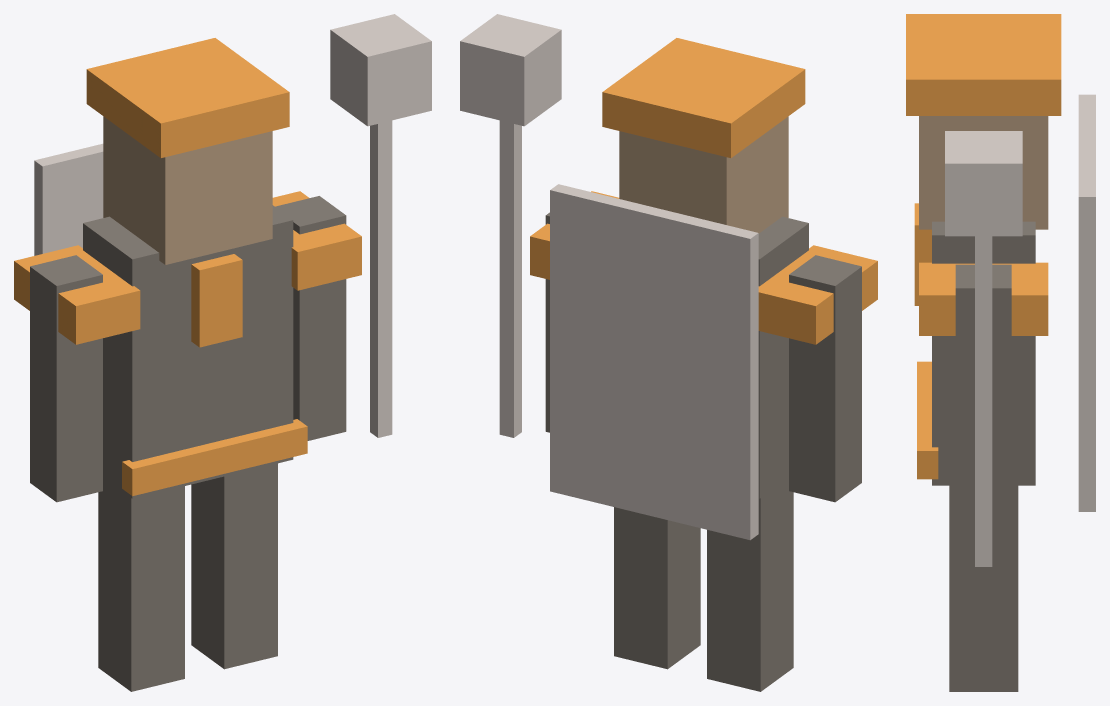
The model's file is 06_maven_mossguard_cartographer_near_waystation.glb.
3 views of the same model, side by side, from view 1: azimuth 30°, elevation 25°; view 2: azimuth 150°, elevation 25°; view 3: azimuth 270°, elevation 25° (orthographic). The views are drawn at different scales.
Visible parts, largest first — view 1: Maven Mossguard, Cartographer near Waystation; view 2: Maven Mossguard, Cartographer near Waystation; view 3: Maven Mossguard, Cartographer near Waystation.
Part boxes in pixels (left/top/right/bottom): Maven Mossguard, Cartographer near Waystation: left=14, top=14, right=431, bottom=691; Maven Mossguard, Cartographer near Waystation: left=460, top=14, right=877, bottom=691; Maven Mossguard, Cartographer near Waystation: left=906, top=14, right=1095, bottom=691.
Bounding box in the file's own units: 1.13 × 1.69 × 0.4794.
